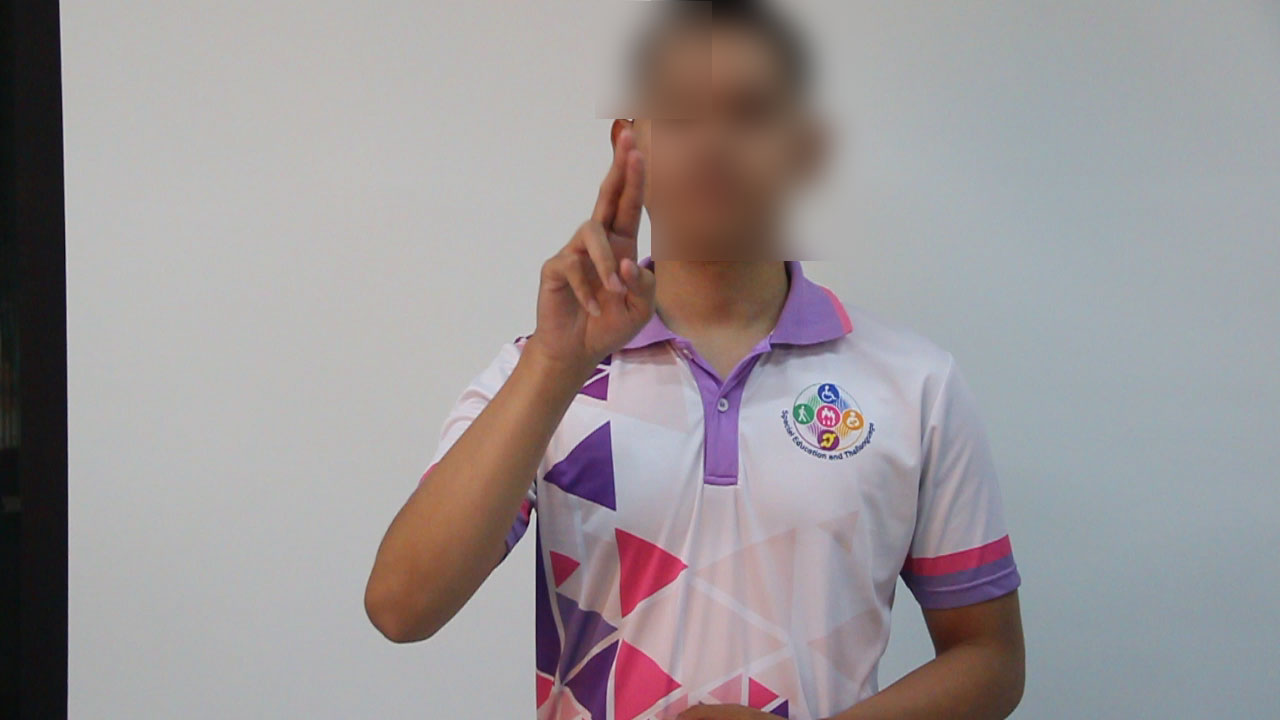rao: (507, 124, 664, 361)
